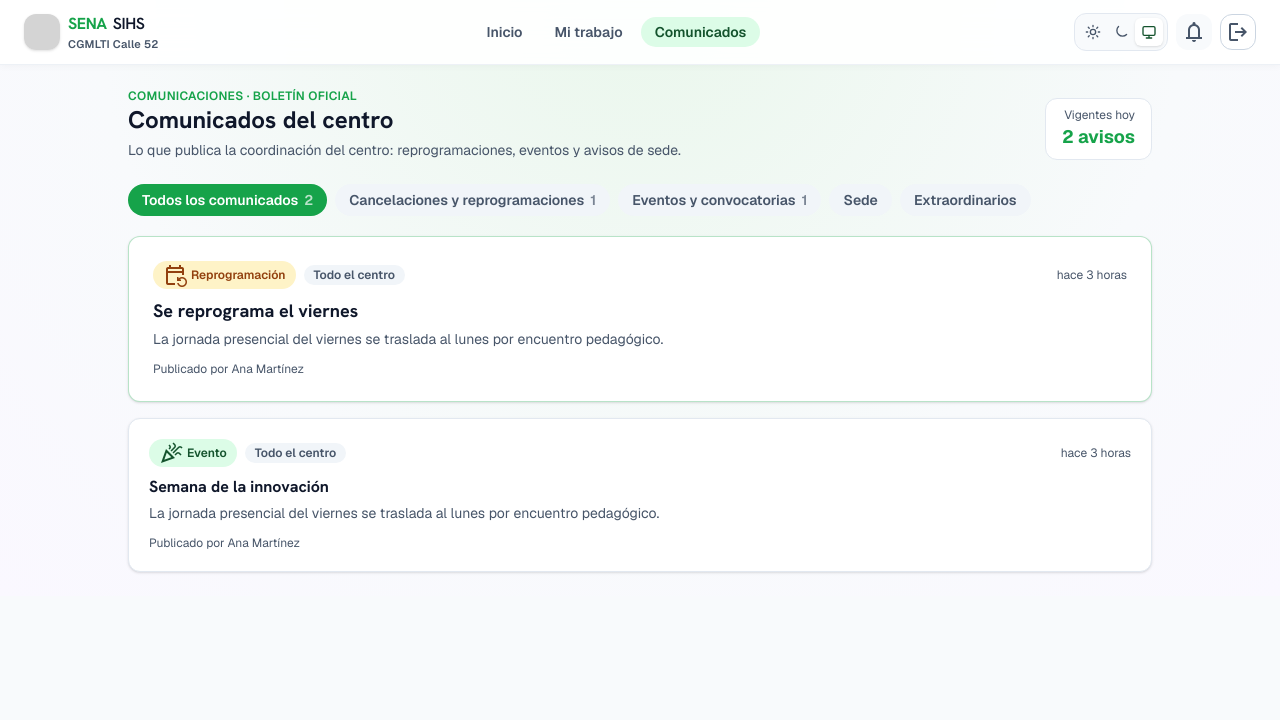
Scenario: Avisos › filtra por categoría sin volver a pedirle nada al backend
This screenshot has width=1280, height=720.
Check: the heading "Se reprograma el viernes" is shown, box left=153, top=299, right=358, bottom=322
Click the button "Eventos y convocatorias1".
click(720, 200)  # box left=618, top=184, right=821, bottom=216
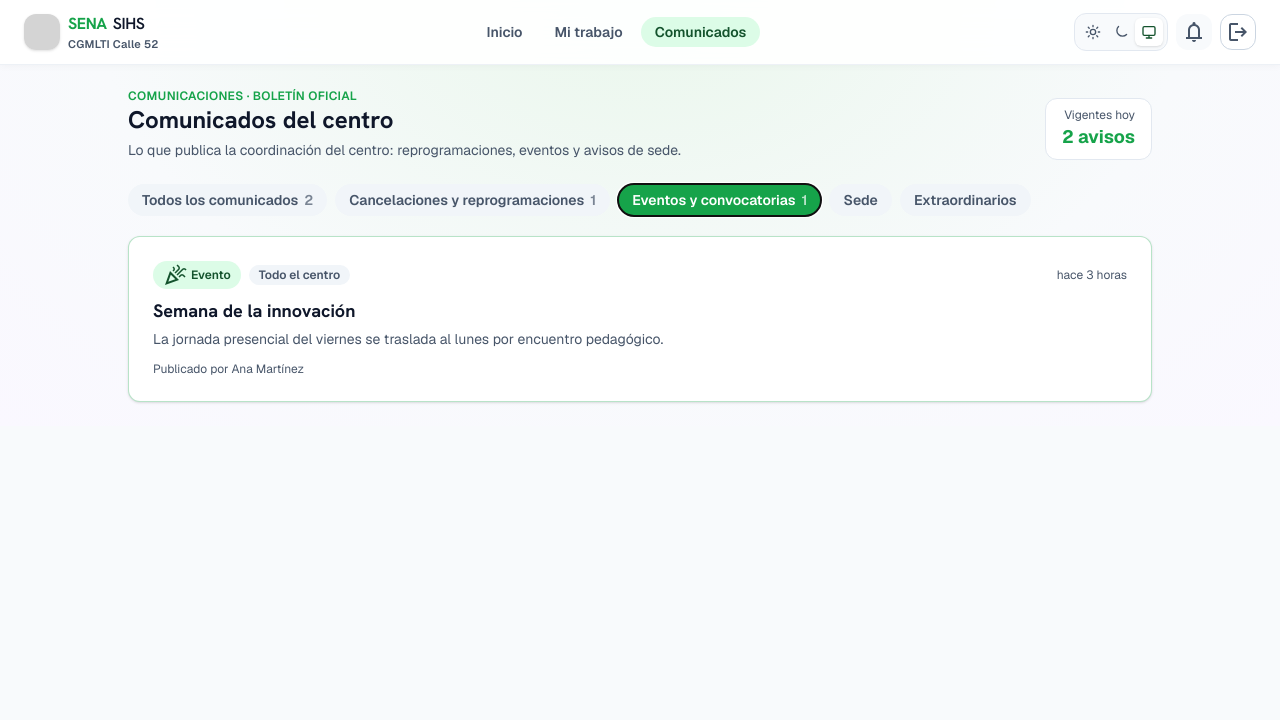
Check: the heading "Semana de la innovación" is shown, box left=153, top=299, right=355, bottom=322
Check: the heading "Se reprograma el viernes" is gone
